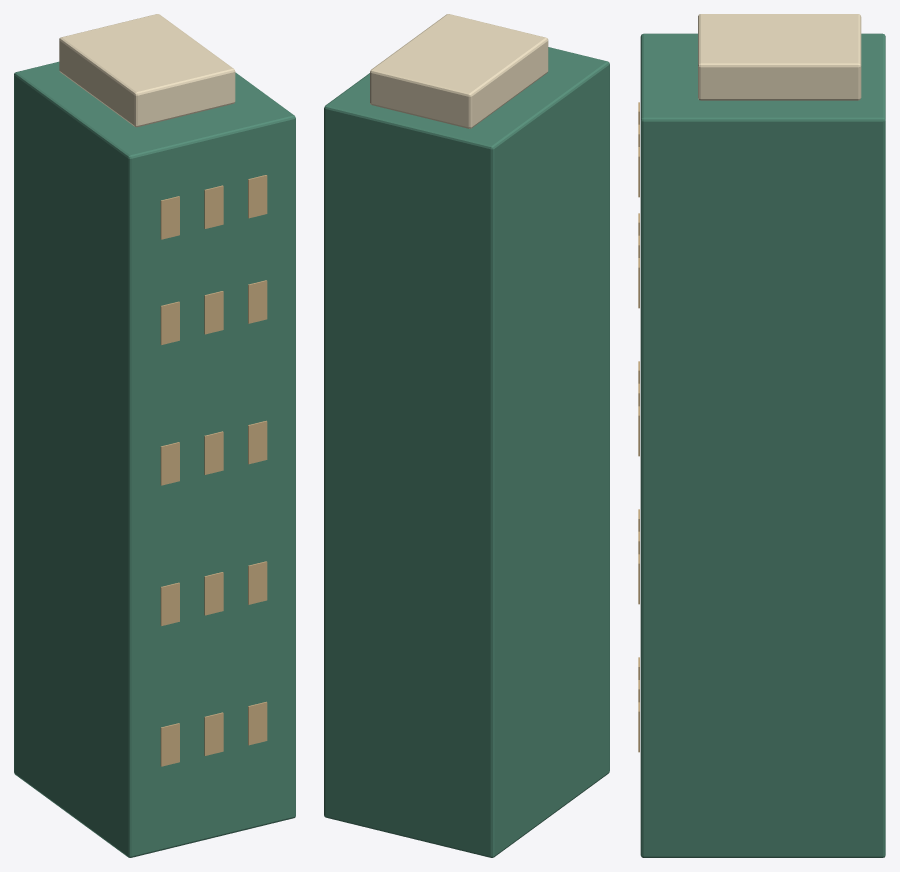
File: tpe5_far_tower_2.glb
3 views of the same model, side by side, from view 1: azimuth 30°, elevation 25°; view 2: azimuth 150°, elevation 25°; view 3: azimuth 270°, elevation 25° (orthographic). The views are drawn at different scales.
Visible parts, largest first — view 1: tpe5_far_tower_2__tpe5-street-jade, tpe5_far_tower_2__tpe5-street-ivory, tpe5_far_tower_2__tpe5-street-brass; view 2: tpe5_far_tower_2__tpe5-street-jade, tpe5_far_tower_2__tpe5-street-ivory; view 3: tpe5_far_tower_2__tpe5-street-jade, tpe5_far_tower_2__tpe5-street-ivory, tpe5_far_tower_2__tpe5-street-brass.
Part boxes in pixels (bbox=[...]): tpe5_far_tower_2__tpe5-street-jade: bbox=[14, 61, 295, 857]; tpe5_far_tower_2__tpe5-street-ivory: bbox=[59, 14, 235, 127]; tpe5_far_tower_2__tpe5-street-brass: bbox=[160, 175, 267, 766]; tpe5_far_tower_2__tpe5-street-jade: bbox=[324, 47, 609, 857]; tpe5_far_tower_2__tpe5-street-ivory: bbox=[370, 14, 548, 128]; tpe5_far_tower_2__tpe5-street-jade: bbox=[640, 33, 885, 857]; tpe5_far_tower_2__tpe5-street-ivory: bbox=[698, 14, 861, 100]; tpe5_far_tower_2__tpe5-street-brass: bbox=[638, 102, 639, 752].
Size of the model in its own units: 5 by 21 by 6.06.
